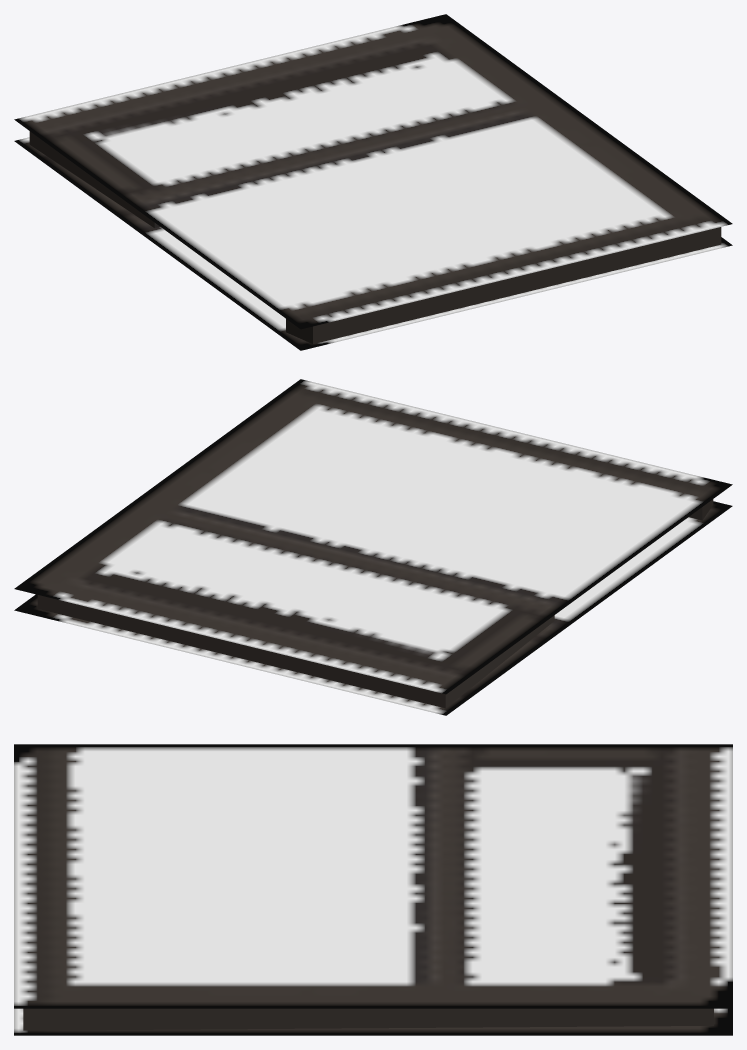
The model's file is pz_native_fixtures_windows_01_67_frame.obj.
The picture shows the model from 3 angles, top to bottom: view 1: azimuth 30°, elevation 25°; view 2: azimuth 150°, elevation 25°; view 3: azimuth 270°, elevation 25°; orthographic projection. The views are drawn at different scales.
Parts seen in each view (by area): view 1: pz_native_fixtures_windows_01_67_frame; view 2: pz_native_fixtures_windows_01_67_frame; view 3: pz_native_fixtures_windows_01_67_frame.
Part boxes in pixels (x1,y1,x2,y2): pz_native_fixtures_windows_01_67_frame: [14, 14, 732, 350]; pz_native_fixtures_windows_01_67_frame: [14, 379, 732, 715]; pz_native_fixtures_windows_01_67_frame: [14, 744, 732, 1035].
Bounding box in the file's own units: 0.8438 × 0.04 × 0.9696.
Materials: 1 (1 with a texture image).
